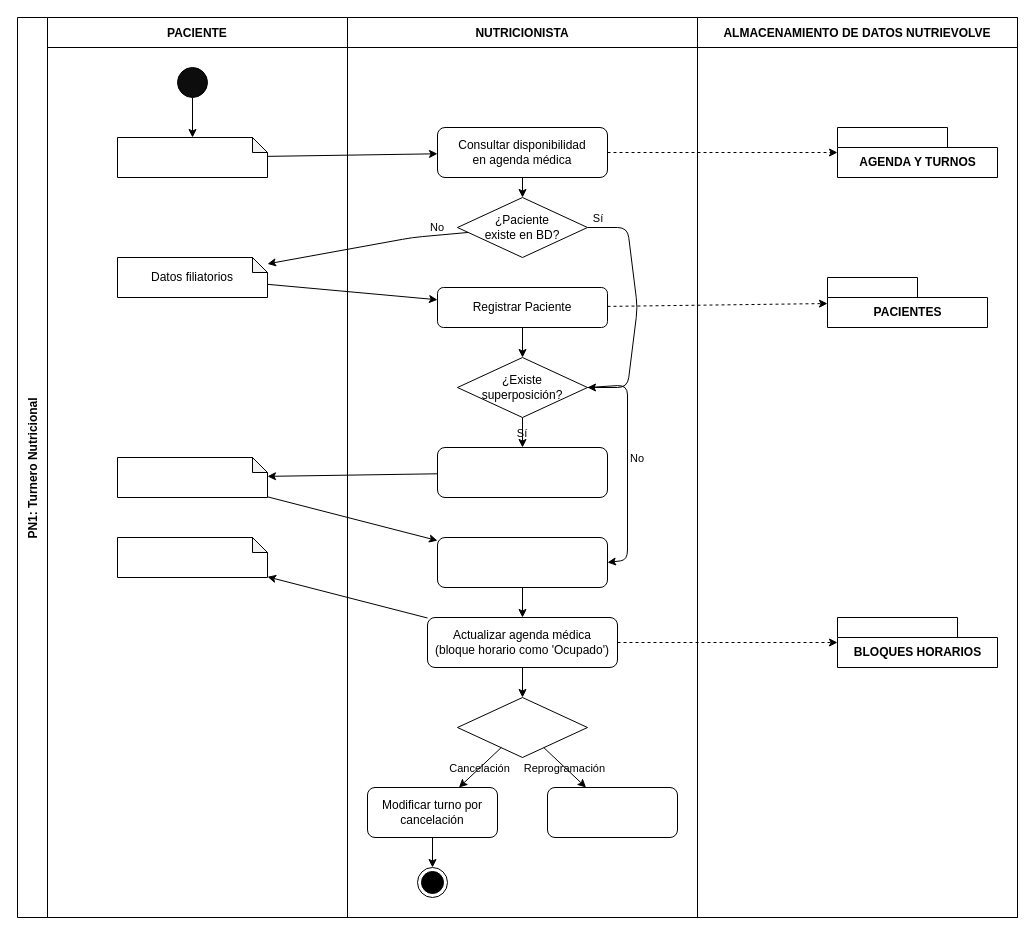
Image size: 1035x935. Some labels were removed from this diagram. Each missing label, with the centre of its shape:
Confirmación del turno: point 192,557
Datos del turno: point 192,157
Horario seleccionado: point 192,477
Modificar turno por reprogramación: point 612,812
Reprogramar y ofrecer horarios alternativos libres: point 522,472
Seleccionar turno disponible en la agenda médica: point 522,562
¿Solicita cambios en el turno?: point 522,727
